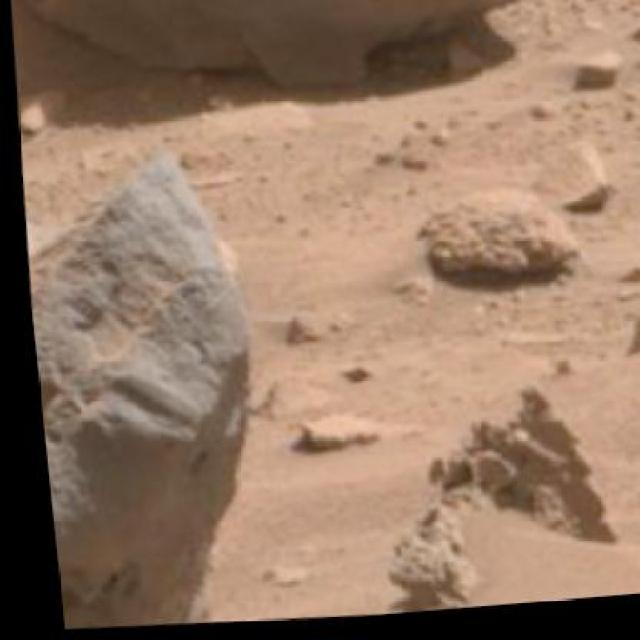rock: (14, 151, 289, 635), (6, 0, 574, 137), (354, 380, 632, 618), (404, 184, 598, 301)
